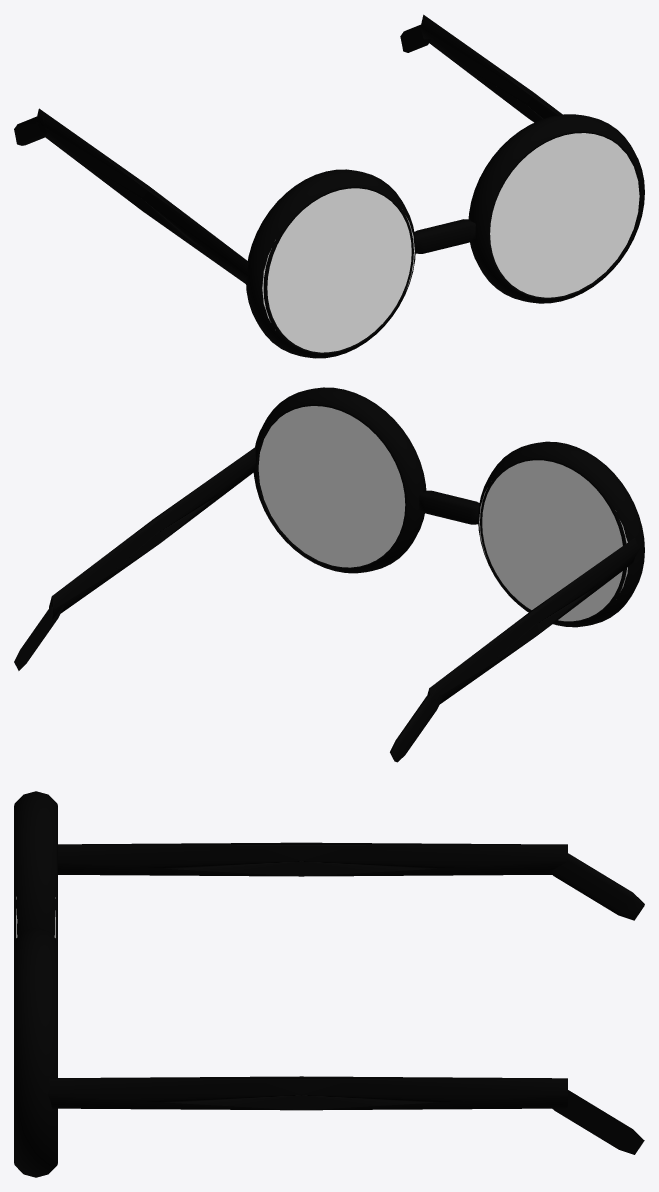
3 renders of one model, top to bottom at view 1: azimuth 30°, elevation 25°; view 2: azimuth 150°, elevation 25°; view 3: azimuth 270°, elevation 25°, orthographic. The views are drawn at different scales.
Visible parts, largest first — view 1: Cylinder.001, Cylinder, Torus.001, Torus, Cube.001, Cube.002, Cube, Cube.004, Cube.003; view 2: Cylinder.001, Cylinder, Torus.001, Torus, Cube.002, Cube.001, Cube, Cube.004, Cube.003; view 3: Cube.002, Cube.001, Torus.001, Torus, Cube.004, Cube.003.
Boxes of the visible parts, <box> form: Cylinder.001: <box>490,133,639,297</box>; Cylinder: <box>262,188,414,352</box>; Torus.001: <box>468,114,644,303</box>; Torus: <box>246,169,415,358</box>; Cube.001: <box>36,108,248,283</box>; Cube.002: <box>420,14,562,122</box>; Cube: <box>414,219,475,253</box>; Cube.004: <box>14,116,46,145</box>; Cube.003: <box>400,24,431,52</box>; Cylinder.001: <box>258,406,405,567</box>; Cylinder: <box>479,460,627,621</box>; Torus.001: <box>253,387,426,573</box>; Torus: <box>478,441,644,627</box>; Cube.002: <box>49,447,255,619</box>; Cube.001: <box>427,538,640,703</box>; Cube: <box>419,490,479,524</box>; Cube.004: <box>390,688,442,762</box>; Cube.003: <box>14,605,63,670</box>; Cube.002: <box>47,1076,567,1110</box>; Cube.001: <box>58,842,567,876</box>; Torus.001: <box>14,927,57,1177</box>; Torus: <box>14,791,57,941</box>; Cube.004: <box>551,853,644,920</box>; Cube.003: <box>552,1090,644,1154</box>.
Size of the model in its own units: 4.01 by 1.77 by 4.44.
Materials: 2 (1 with a texture image).
